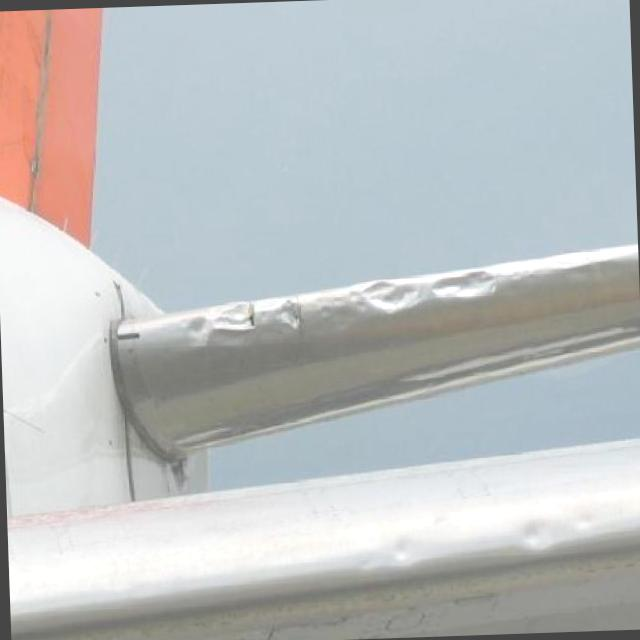dent: (184, 301, 256, 347), (356, 278, 430, 315), (435, 268, 504, 298), (542, 245, 614, 270), (272, 296, 305, 327)
